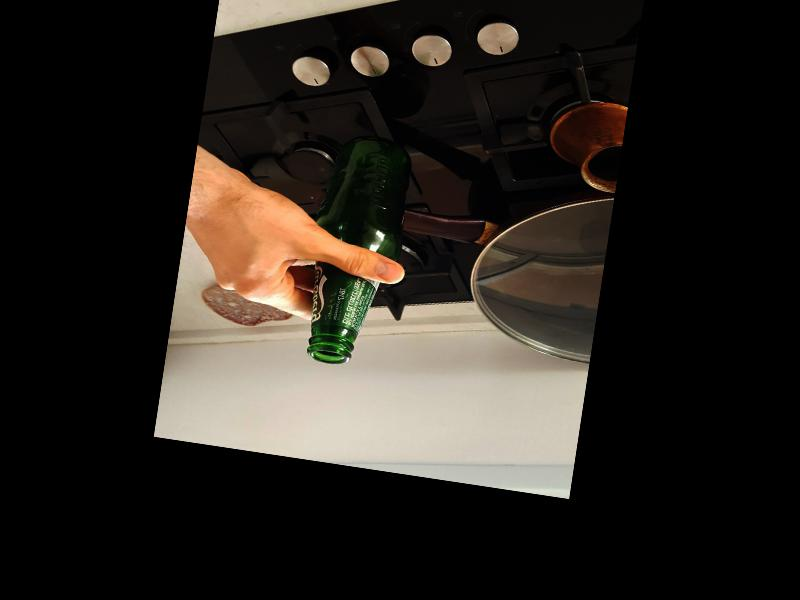Beer: (304, 131, 414, 368)
